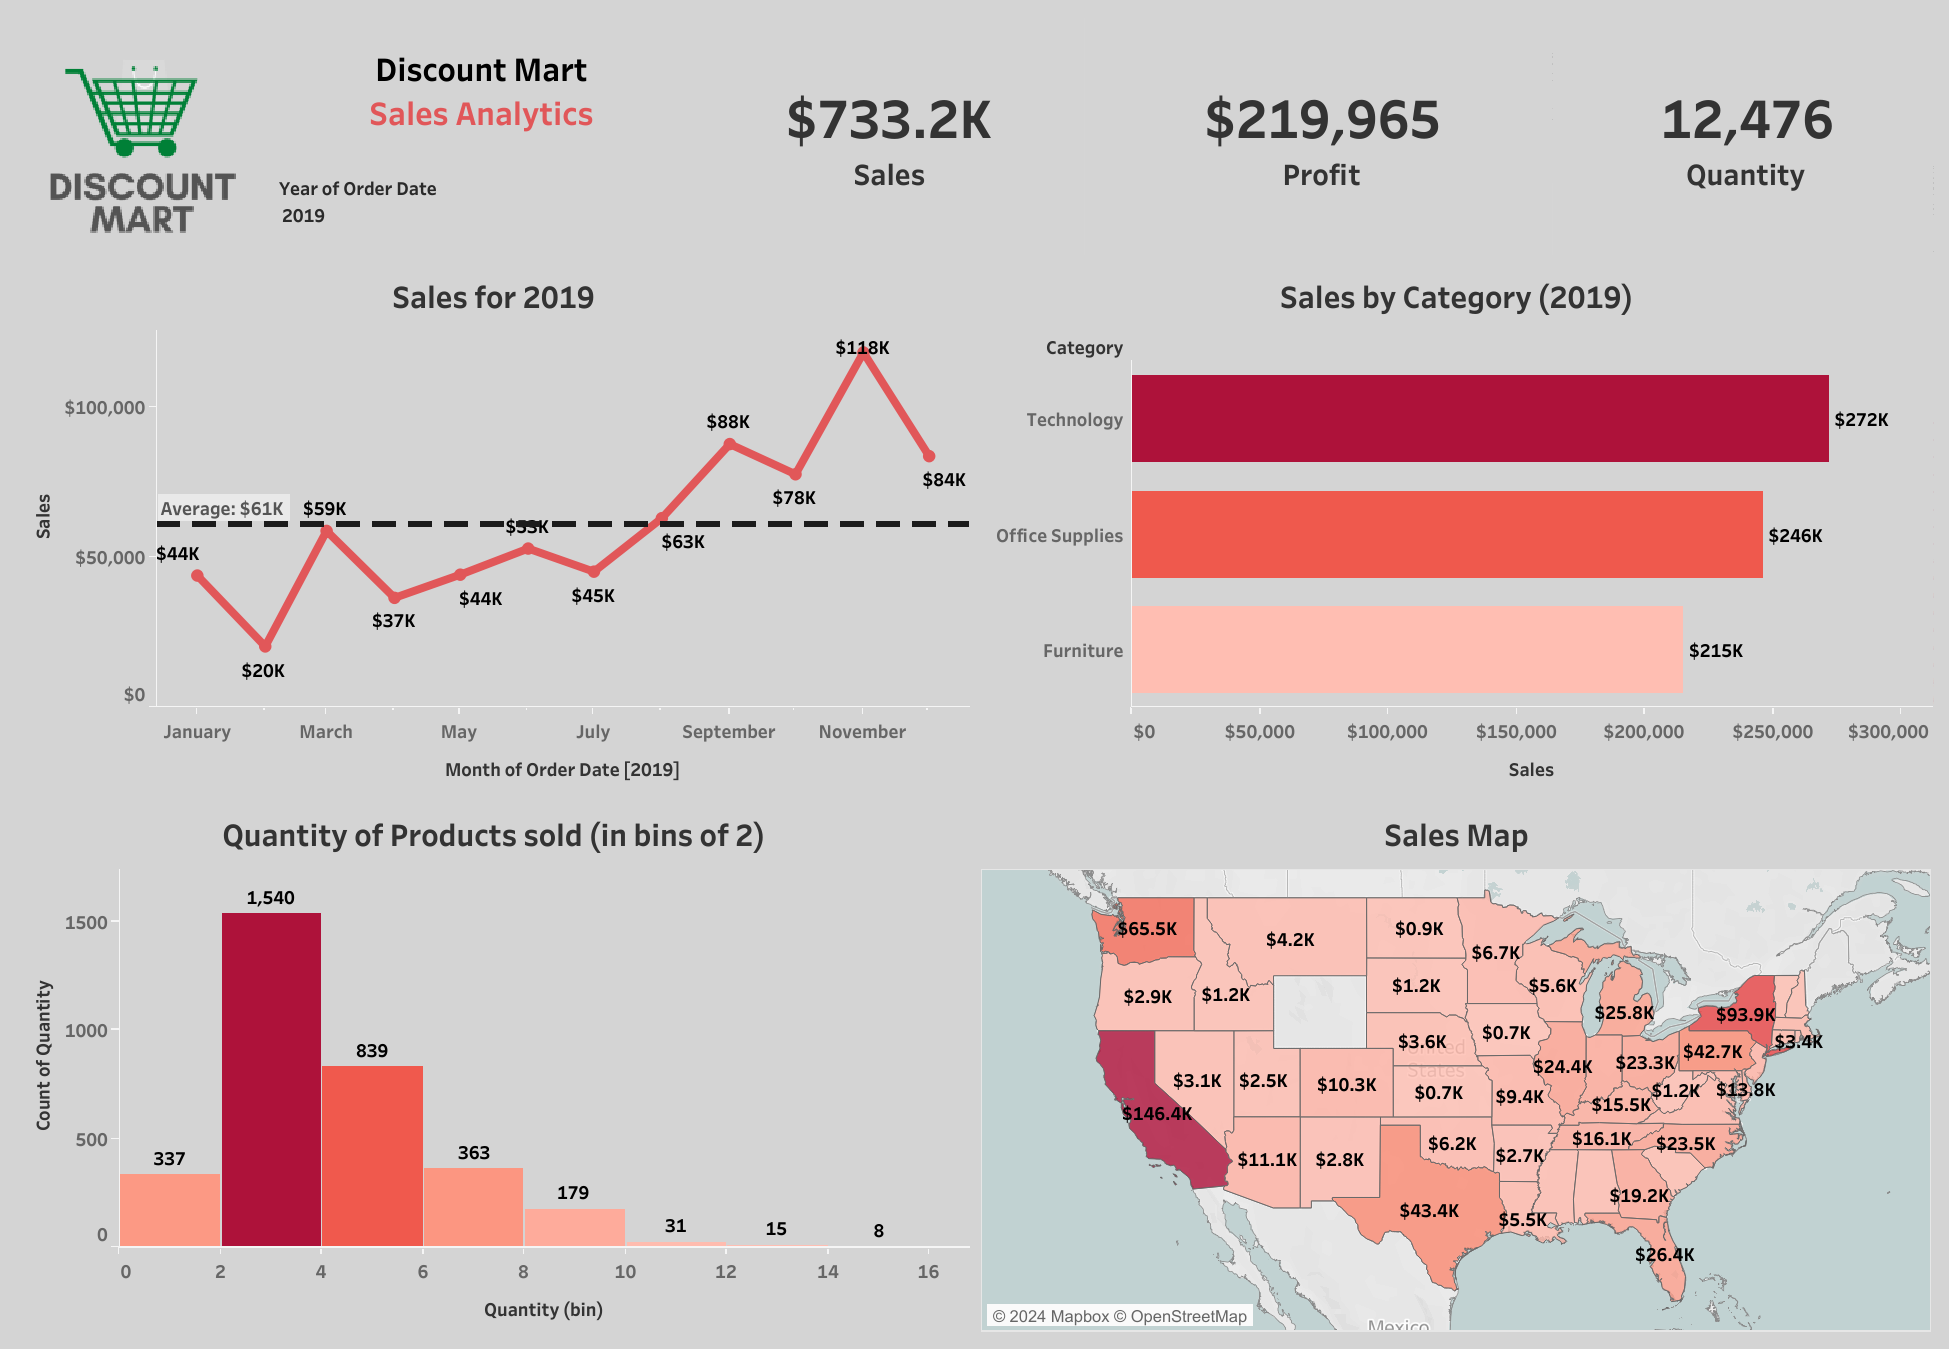

The page's visual inventory and layout, read from the dashboard file:
{"tool":"tableau","page":{"name":"Dashboard - Discount MartSales Analytics","canvas":[1300,900],"ordinal":0},"visuals":[{"type":"image","param":"Image/Discount+Mart+.png","box":[8,8,174,165]},{"type":"text","box":[182,8,278.4,103]},{"type":"worksheet","title":"Sales Card","mark":"Automatic","box":[460.4,8,265.6,165]},{"type":"worksheet","title":"Profit Card","mark":"Automatic","box":[726,8,312.4,165]},{"type":"worksheet","title":"Quantity Card ","mark":"Automatic","box":[1038.4,8,253.6,165]},{"type":"filter","title":"Yearly Sales","param":"[federated.0uvc6ad17d7tbq12xsxk11enxmq1].[yr:Order Date:ok]","box":[182,111,278.4,62]},{"type":"worksheet","title":"Yearly Sales","mark":"Automatic","rows":["Sales"],"cols":["Order Date"],"box":[8,173,642,359.5]},{"type":"worksheet","title":"Sales by Category","mark":"Automatic","rows":["Category"],"cols":["Sales"],"box":[650,173,642,359.5]},{"type":"worksheet","title":"Products sold per order","mark":"Automatic","rows":["Quantity"],"cols":["Quantity (bin)"],"box":[8,532.5,642,359.5]},{"type":"worksheet","title":"Sales Map","mark":"Automatic","box":[650,532.5,642,359.5]}]}

Visuals, with their boxes in screenshot pixels (x1, y1, x2, y2), scaled from the page's 1300x900 canvas onto the 1949x1349 screenshot:
image: box(12, 12, 273, 259)
text: box(273, 12, 690, 166)
"Sales Card" worksheet: box(690, 12, 1088, 259)
"Profit Card" worksheet: box(1088, 12, 1557, 259)
"Quantity Card " worksheet: box(1557, 12, 1937, 259)
"Yearly Sales" filter: box(273, 166, 690, 259)
"Yearly Sales" worksheet: box(12, 259, 974, 798)
"Sales by Category" worksheet: box(974, 259, 1937, 798)
"Products sold per order" worksheet: box(12, 798, 974, 1337)
"Sales Map" worksheet: box(974, 798, 1937, 1337)
